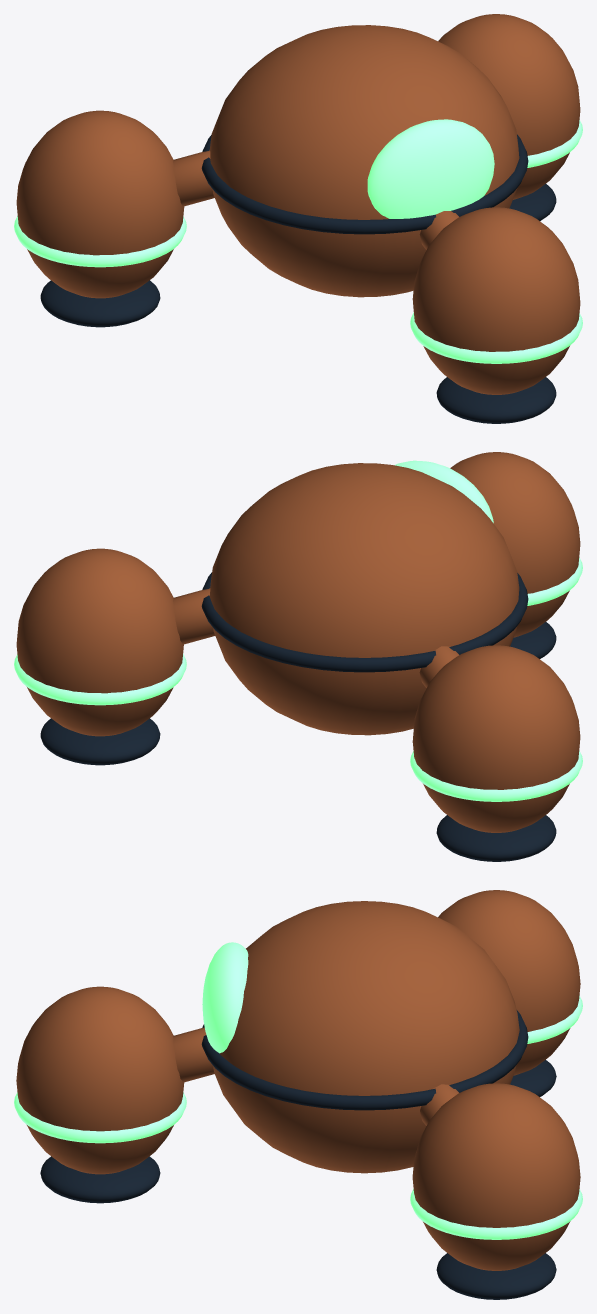
The model's file is Alien-2.glb.
3 views of the same model, one above another, from view 1: azimuth 30°, elevation 25°; view 2: azimuth 150°, elevation 25°; view 3: azimuth 270°, elevation 25° (orthographic).
Visible parts, largest first — view 1: Organic Copper, Reactor Lime, Window Graphite; view 2: Organic Copper, Window Graphite, Reactor Lime; view 3: Organic Copper, Window Graphite, Reactor Lime.
Part boxes in pixels (x1=…): Organic Copper: x1=16, y1=14, x2=580, y2=394; Reactor Lime: x1=14, y1=119, x2=582, y2=363; Window Graphite: x1=40, y1=134, x2=556, y2=423; Organic Copper: x1=16, y1=452, x2=580, y2=832; Window Graphite: x1=40, y1=572, x2=556, y2=861; Reactor Lime: x1=14, y1=460, x2=582, y2=801; Organic Copper: x1=16, y1=890, x2=580, y2=1270; Window Graphite: x1=40, y1=1010, x2=556, y2=1299; Reactor Lime: x1=14, y1=942, x2=582, y2=1239.
Bounding box in the file's own units: 52.51 × 25 × 47.4.
